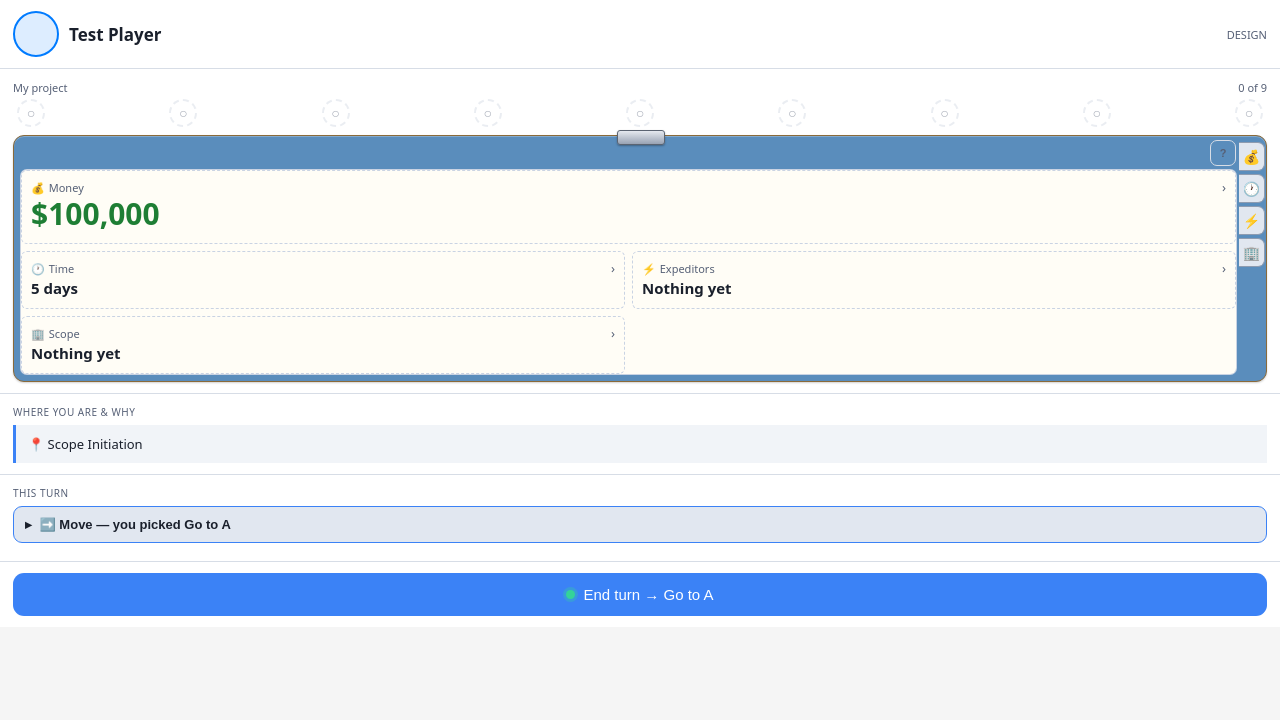
Test case: PlayerPanelV2 — movement check/uncheck (Pile 2: fb:c2e489dc / fb:45cb8b0c) › keeps every destination on screen AFTER one is picked (no vanishing)
The width and height of the screenshot is (1280, 720).
Click the button with aria-label "Move — where to go next": (135, 524) [13,506,1267,543]
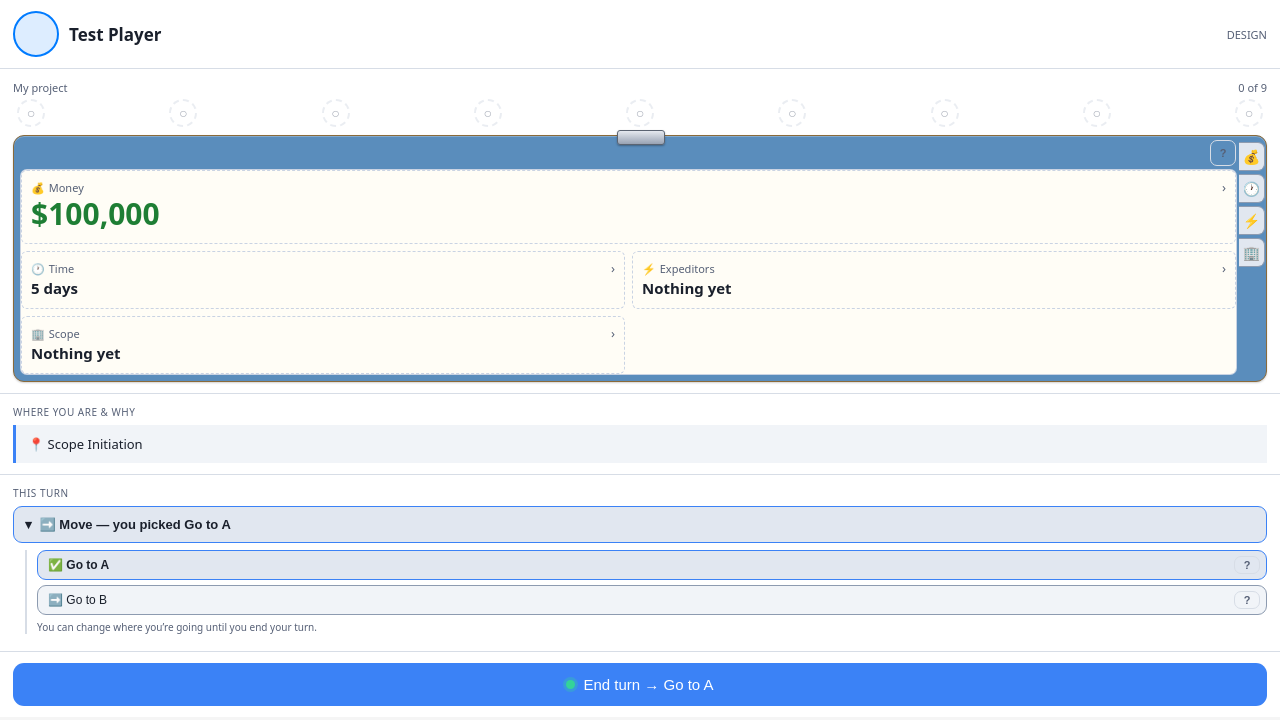
Expected: the text "You can change where you’re going until you end your turn." is shown, [37,620,317,634]
